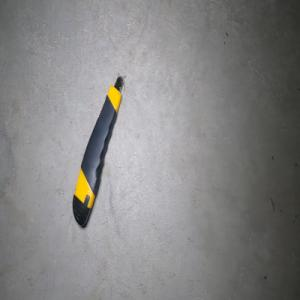Cutter: (71, 75, 124, 227)
